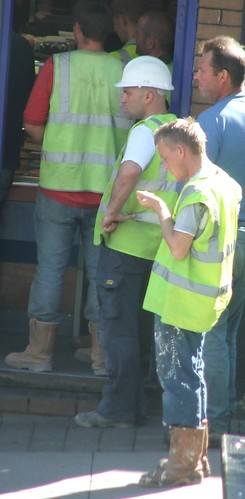person hardhat: (92, 50, 177, 453)
